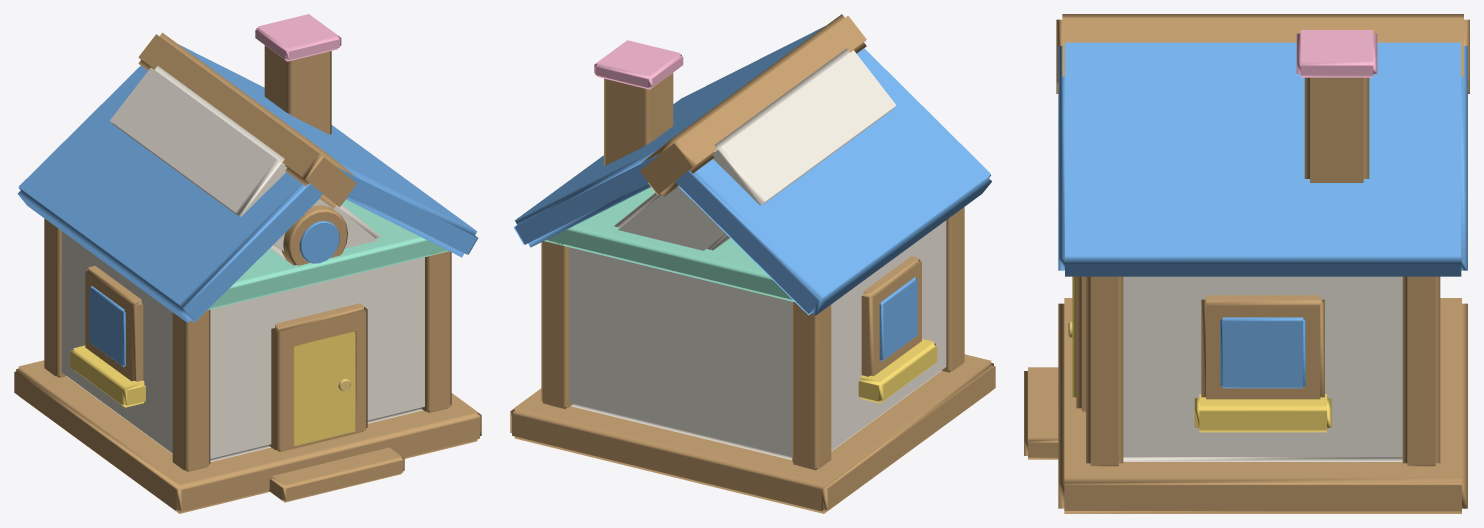
The model's file is toy_house_blue.glb.
The picture shows the model from 3 angles, left to right: view 1: azimuth 30°, elevation 25°; view 2: azimuth 150°, elevation 25°; view 3: azimuth 270°, elevation 25°; orthographic projection. The views are drawn at different scales.
Parts seen in each view (by area): view 1: Body, RoofSlab_L, Plinth, GableCore, RoofSlab_R, RoofGable, EaveBand, DoorFrame, DoorLeaf, CornerPost_-1.28_-1.18, Chimney, CornerPost_1.28_-1.18 (+8 smaller); view 2: Body, RoofSlab_L, Plinth, GableCore, RoofSlab_R, RoofGable, EaveBand, CornerPost_-1.28_1.18, CornerPost_1.28_1.18, Chimney, SideWinFrame_-1.0, CornerPost_-1.28_-1.18 (+3 smaller); view 3: RoofSlab_R, Body, Plinth, RoofGable, CornerPost_1.28_1.18, CornerPost_1.28_-1.18, SideWinFrame_1.0, Chimney, SideWinPane_1.0, SidePlanter_1.0, ChimneyCap, PorchStep (+2 smaller).
Part boxes in pixels (x1,y1,x2,y2): Body: (61, 231, 424, 462); RoofSlab_L: (17, 66, 322, 322); Plinth: (14, 360, 481, 513); GableCore: (110, 66, 381, 259); RoofSlab_R: (178, 44, 478, 257); RoofGable: (138, 32, 356, 208); EaveBand: (207, 199, 448, 310); DoorFrame: (268, 303, 367, 452); DoorLeaf: (293, 331, 356, 445); CornerPost_-1.28_-1.18: (172, 309, 210, 471); Chimney: (264, 45, 331, 134); CornerPost_1.28_-1.18: (421, 251, 451, 412); Body: (569, 220, 946, 459); RoofSlab_L: (675, 48, 991, 315); Plinth: (510, 354, 995, 513); GableCore: (614, 48, 896, 250); RoofSlab_R: (514, 26, 824, 247); RoofGable: (640, 14, 866, 196); EaveBand: (544, 187, 794, 301); CornerPost_-1.28_1.18: (792, 301, 831, 470); CornerPost_1.28_1.18: (541, 240, 572, 409); Chimney: (604, 73, 673, 165); SideWinFrame_-1.0: (861, 256, 921, 376); CornerPost_-1.28_-1.18: (941, 207, 964, 372); RoofSlab_R: (1058, 42, 1467, 276); Body: (1123, 276, 1402, 461); Plinth: (1058, 298, 1467, 513); RoofGable: (1056, 14, 1469, 93); CornerPost_1.28_1.18: (1402, 276, 1440, 466); CornerPost_1.28_-1.18: (1086, 276, 1123, 466); SideWinFrame_1.0: (1201, 295, 1324, 399); Chimney: (1304, 77, 1369, 182); SideWinPane_1.0: (1220, 317, 1305, 388); SidePlanter_1.0: (1194, 394, 1331, 432); ChimneyCap: (1296, 30, 1377, 77); PorchStep: (1024, 367, 1058, 459).
Bounding box in the file's own units: 3.25 × 3.51 × 3.32.
